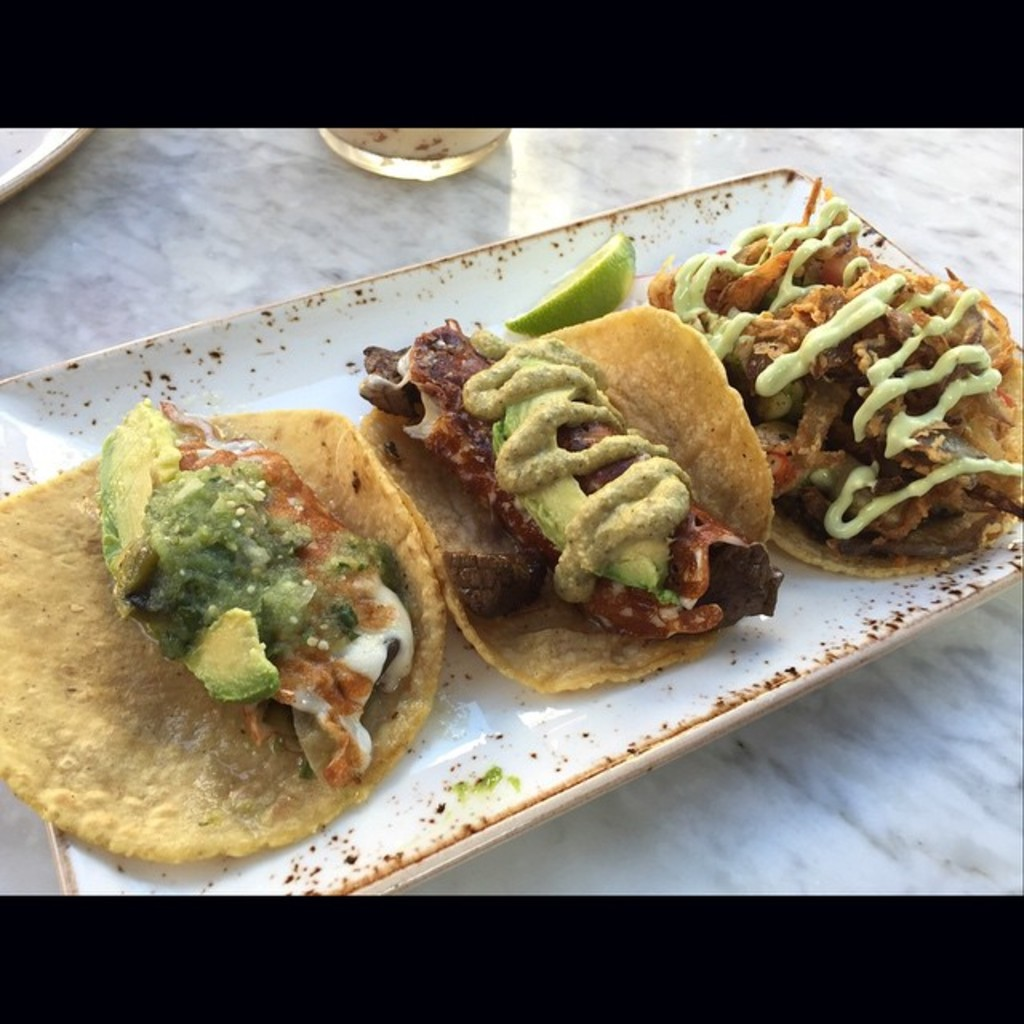taco: (0, 402, 411, 866), (333, 304, 778, 693), (624, 216, 1022, 576)
